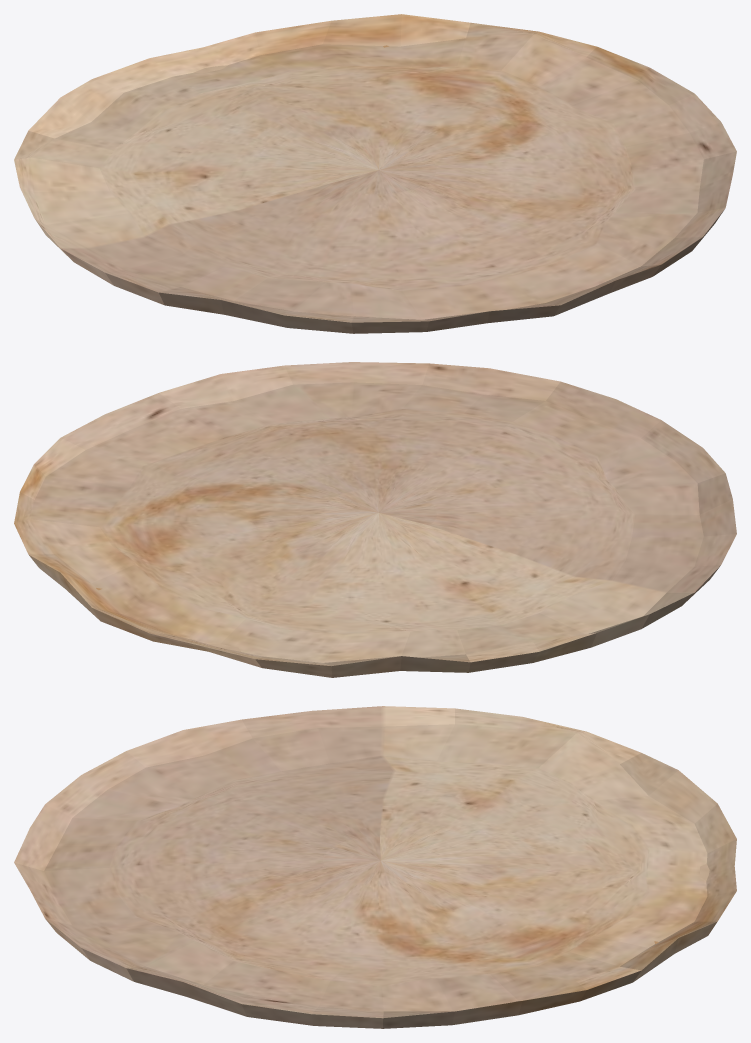
Rendered from deegbal_fase_3.obj.
3 renders of one model, top to bottom at view 1: azimuth 30°, elevation 25°; view 2: azimuth 150°, elevation 25°; view 3: azimuth 270°, elevation 25°, orthographic.
Visible parts, largest first — view 1: Sphere; view 2: Sphere; view 3: Sphere.
Boxes of the visible parts, box(x1,y1,x2,y2) form: Sphere: box(14, 14, 736, 333); Sphere: box(14, 362, 736, 677); Sphere: box(14, 706, 736, 1028).
Bounding box in the file's own units: 3.09 × 0.1163 × 3.03.
Materials: 1 (1 with a texture image).
